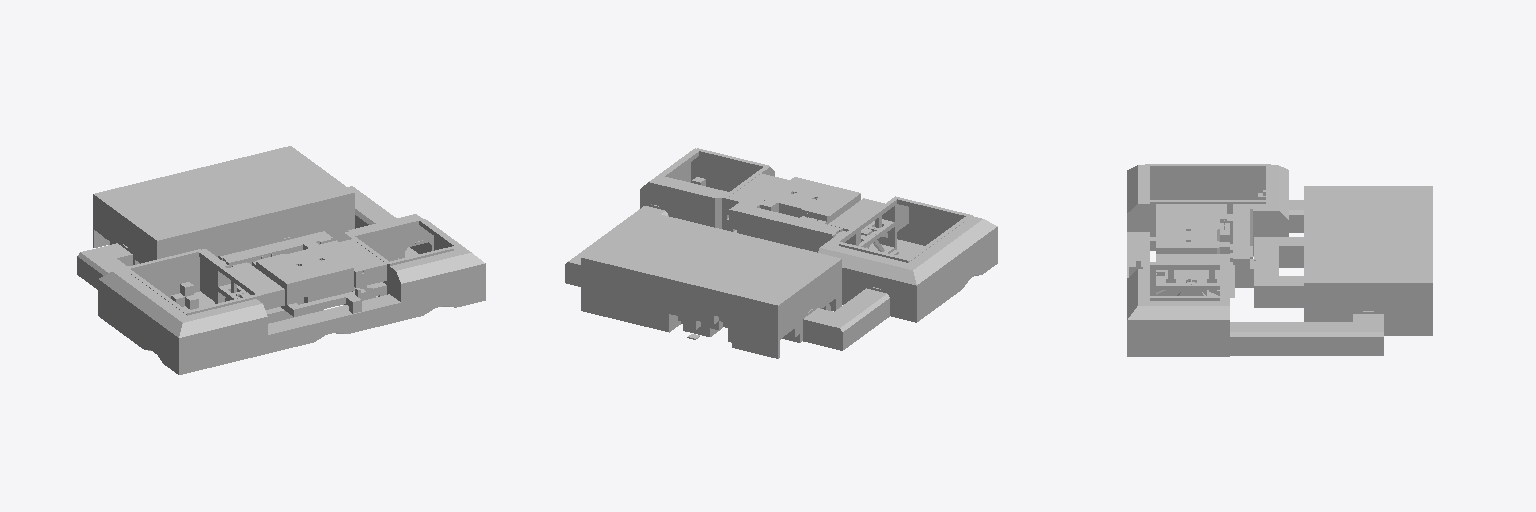
3 views of the same model, side by side, from view 1: azimuth 30°, elevation 25°; view 2: azimuth 150°, elevation 25°; view 3: azimuth 270°, elevation 25° (orthographic).
Parts seen in each view (by area): view 1: hl_mp_stalkyard; view 2: hl_mp_stalkyard; view 3: hl_mp_stalkyard.
Boxes of the visible parts, box(x1,y1,x2,y2) form: hl_mp_stalkyard: box(77, 146, 485, 374); hl_mp_stalkyard: box(565, 148, 997, 358); hl_mp_stalkyard: box(1127, 164, 1432, 356).
Bounding box in the file's own units: 579 × 98.58 × 499.